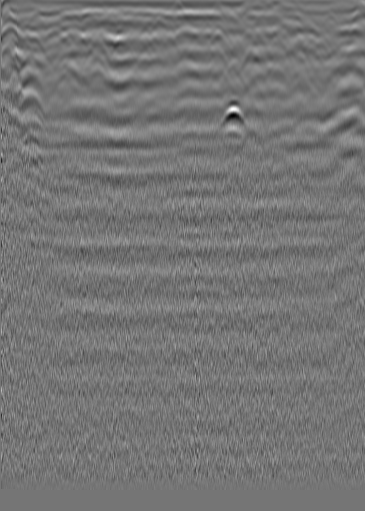가스: (215, 97, 253, 136)
상수: (289, 31, 309, 51)
오수: (21, 29, 41, 49)
우수: (151, 16, 171, 36)
